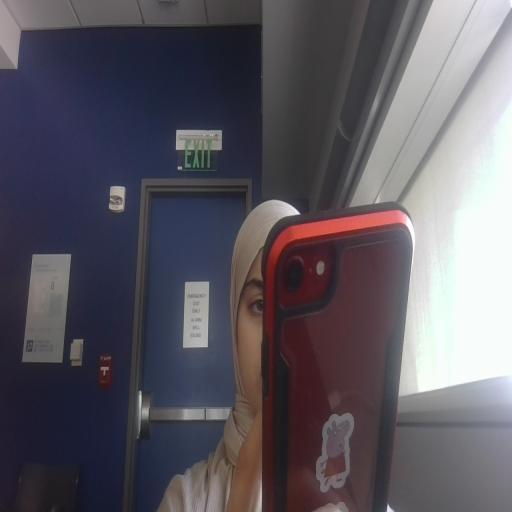phone: (266, 191, 419, 512)
